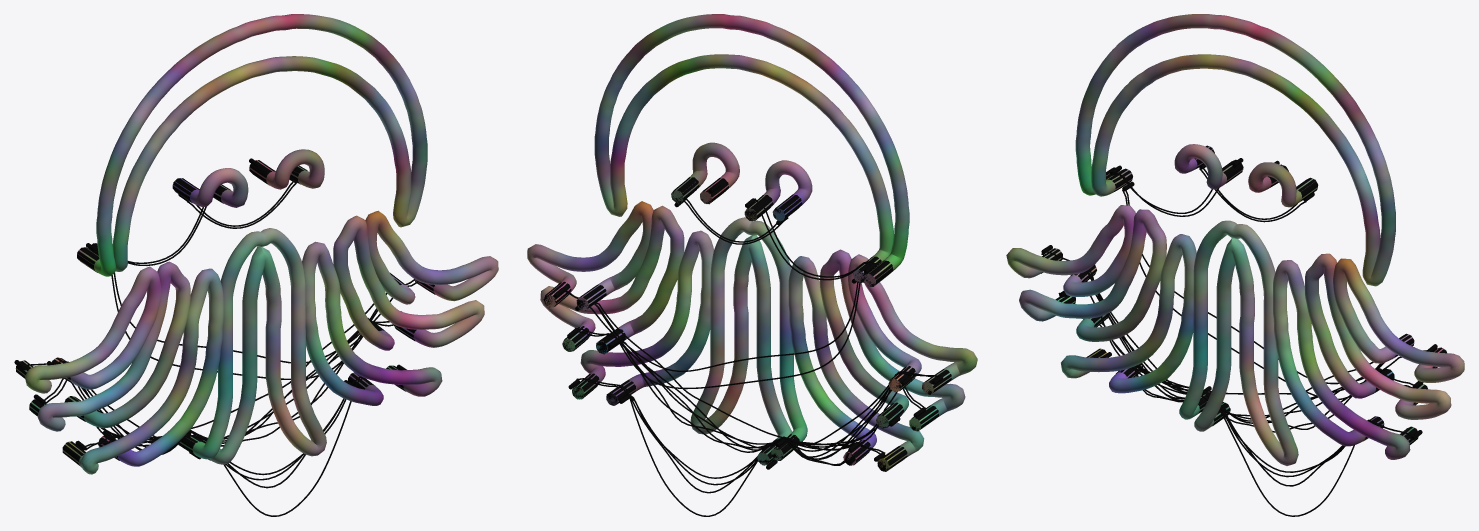
File: neonsign_16.fbx
3 renders of one model, left to right at view 1: azimuth 30°, elevation 25°; view 2: azimuth 150°, elevation 25°; view 3: azimuth 330°, elevation 25°, orthographic. The views are drawn at different scales.
Visible parts, largest first — view 1: neonsign_16; view 2: neonsign_16; view 3: neonsign_16.
Part boxes in pixels (x1,y1,x2,y2): neonsign_16: [14, 14, 498, 516]; neonsign_16: [527, 14, 977, 516]; neonsign_16: [1006, 14, 1464, 516].
Bounding box in the file's own units: 1.38 × 1.45 × 0.1585.
